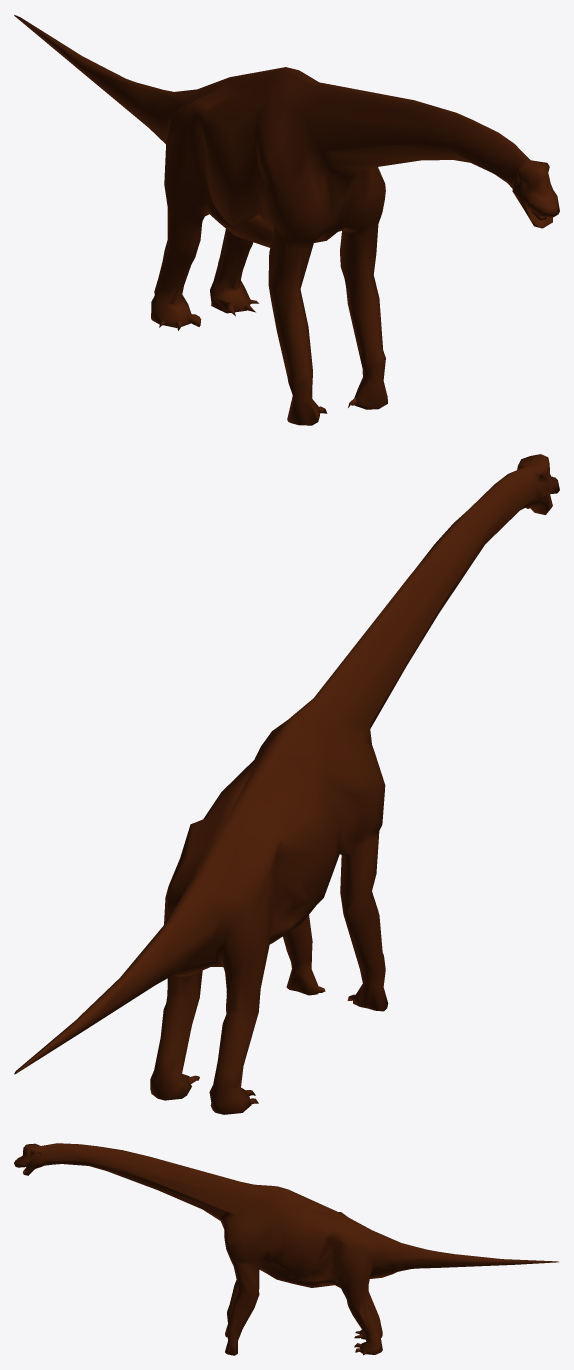
The model's file is Dinosaur 2.FBX.
3 views of the same model, one above another, from view 1: azimuth 30°, elevation 25°; view 2: azimuth 150°, elevation 25°; view 3: azimuth 270°, elevation 25° (orthographic). The views are drawn at different scales.
Parts seen in each view (by area): view 1: Dinosaur 2; view 2: Dinosaur 2; view 3: Dinosaur 2.
Boxes of the visible parts, x1,y1,x2,y2 form: Dinosaur 2: (14,15,559,425); Dinosaur 2: (14,454,559,1114); Dinosaur 2: (14,1143,558,1355).
Bounding box in the file's own units: 6.2 × 21.64 × 53.36.
